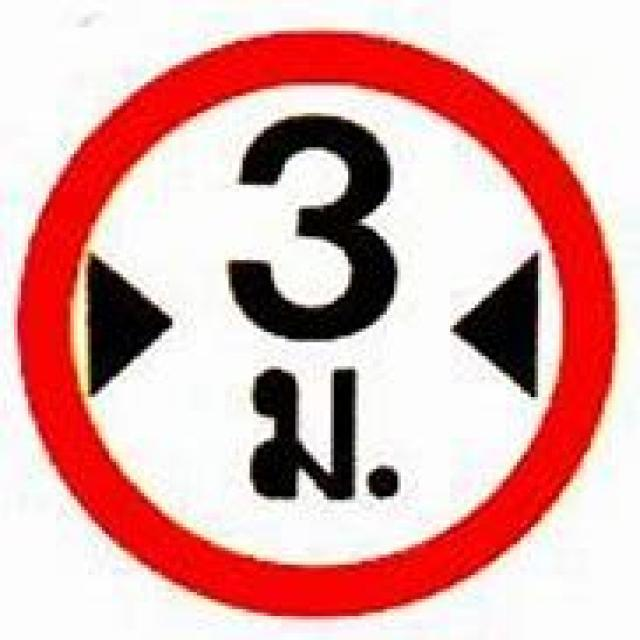width limit: (23, 30, 607, 610)
